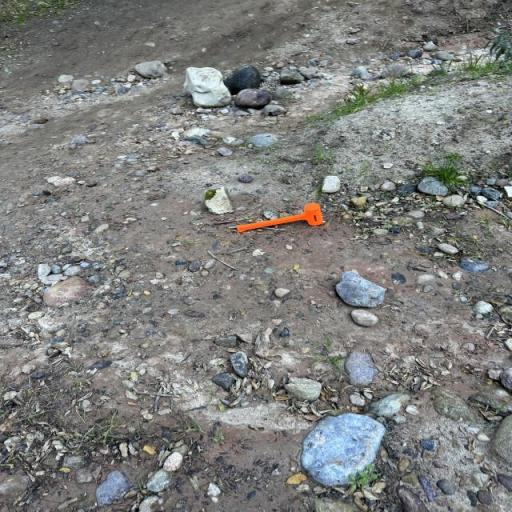mallet: (236, 203, 323, 232)
